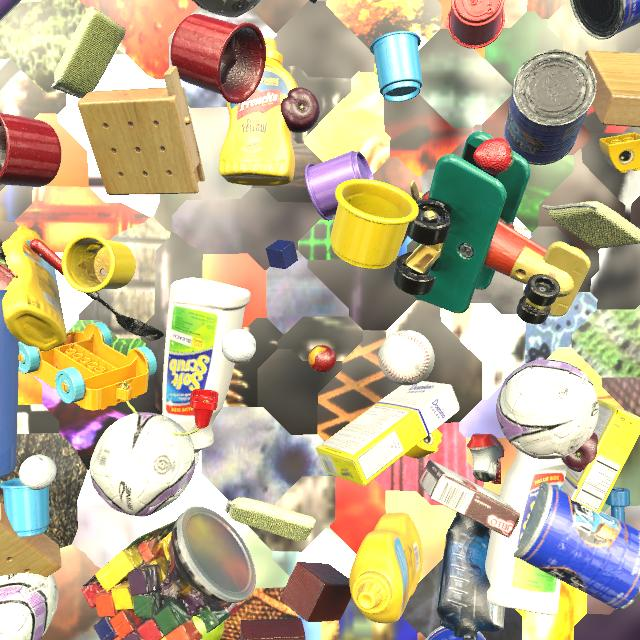ycb_002_master_chef_can: (513, 482, 640, 610), (504, 50, 597, 165), (570, 0, 640, 40), (425, 626, 486, 640)
ycb_004_sugar_box: (316, 381, 460, 486), (562, 399, 640, 514)
ycb_006_mustard_bottle: (219, 38, 298, 186), (2, 225, 67, 351), (349, 513, 423, 623)
ycb_008_pudding_box: (418, 460, 521, 538)
ycb_012_strawberry: (473, 138, 514, 174)
ycb_016_pear: (193, 616, 225, 640)
ycb_018_plum: (280, 88, 320, 133), (561, 433, 598, 472)
